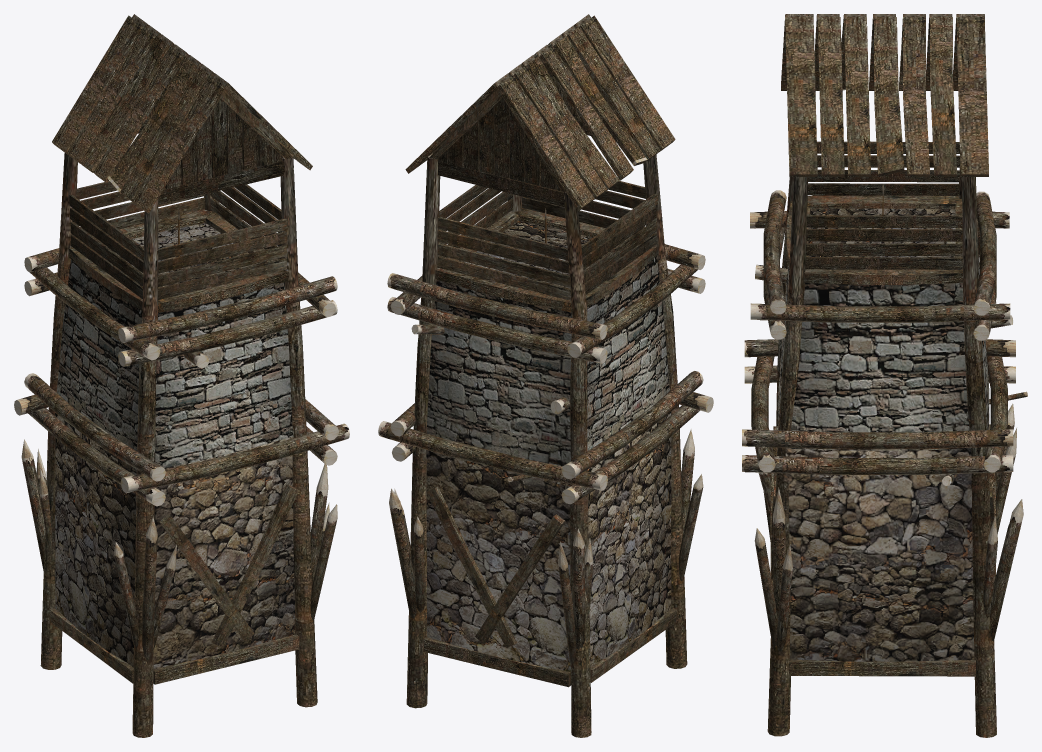
Rendered from gaul_wall_tower.glb.
3 renders of one model, left to right at view 1: azimuth 30°, elevation 25°; view 2: azimuth 150°, elevation 25°; view 3: azimuth 270°, elevation 25°, orthographic. The views are drawn at different scales.
Visible parts, largest first — view 1: gaul_wall_tower_part0; view 2: gaul_wall_tower_part0; view 3: gaul_wall_tower_part0.
Part boxes in pixels (box(x1,y1,x2,y2)): gaul_wall_tower_part0: box(14, 14, 349, 737); gaul_wall_tower_part0: box(378, 14, 713, 737); gaul_wall_tower_part0: box(742, 14, 1027, 737).
Bounding box in the file's own units: 2.1 × 5.75 × 2.2.
2 materials, 2 textured.
